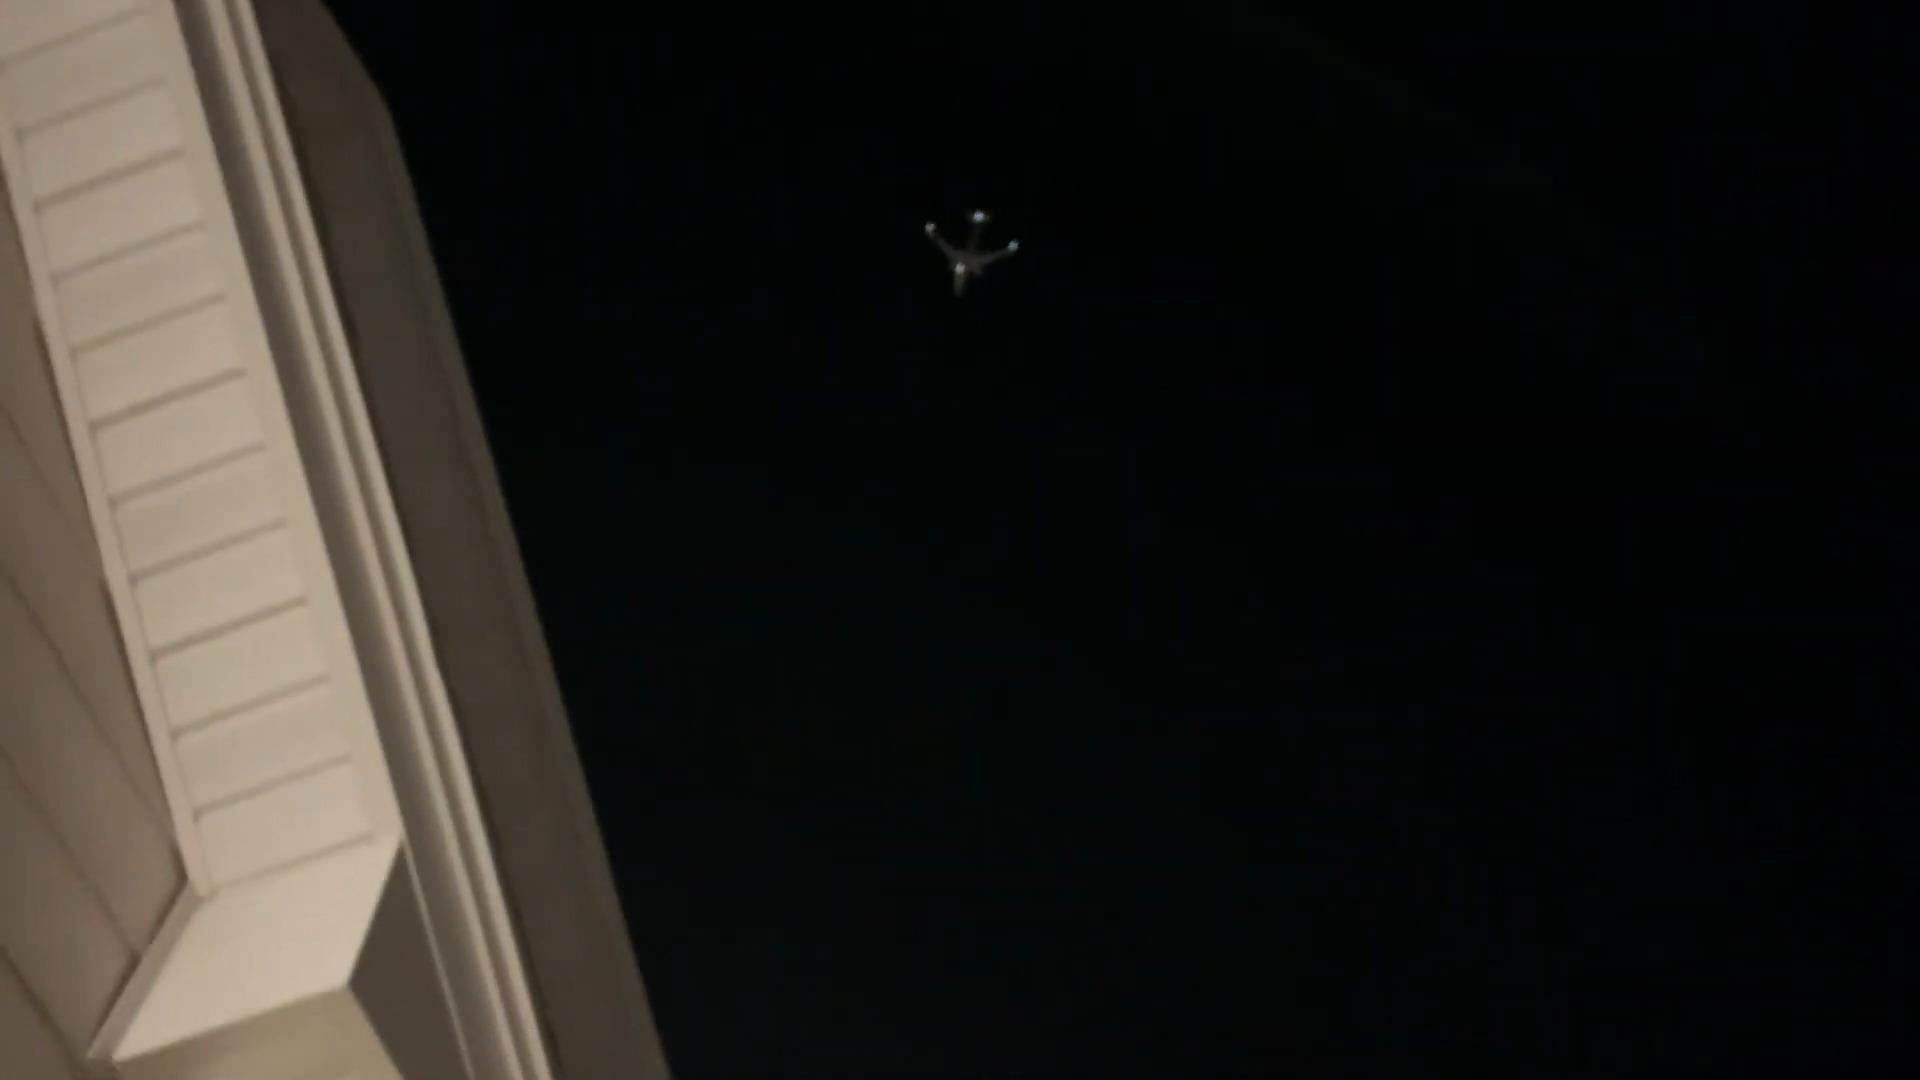Plane: (843, 182, 1088, 320)
